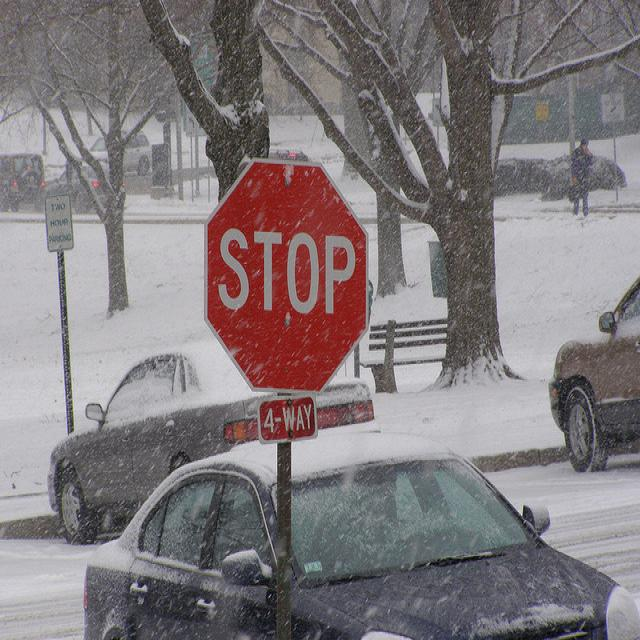Vehicle: (84, 427, 639, 632), (46, 336, 378, 540), (547, 276, 640, 472), (38, 160, 108, 216), (90, 130, 152, 183), (0, 152, 46, 210), (490, 152, 543, 196)
